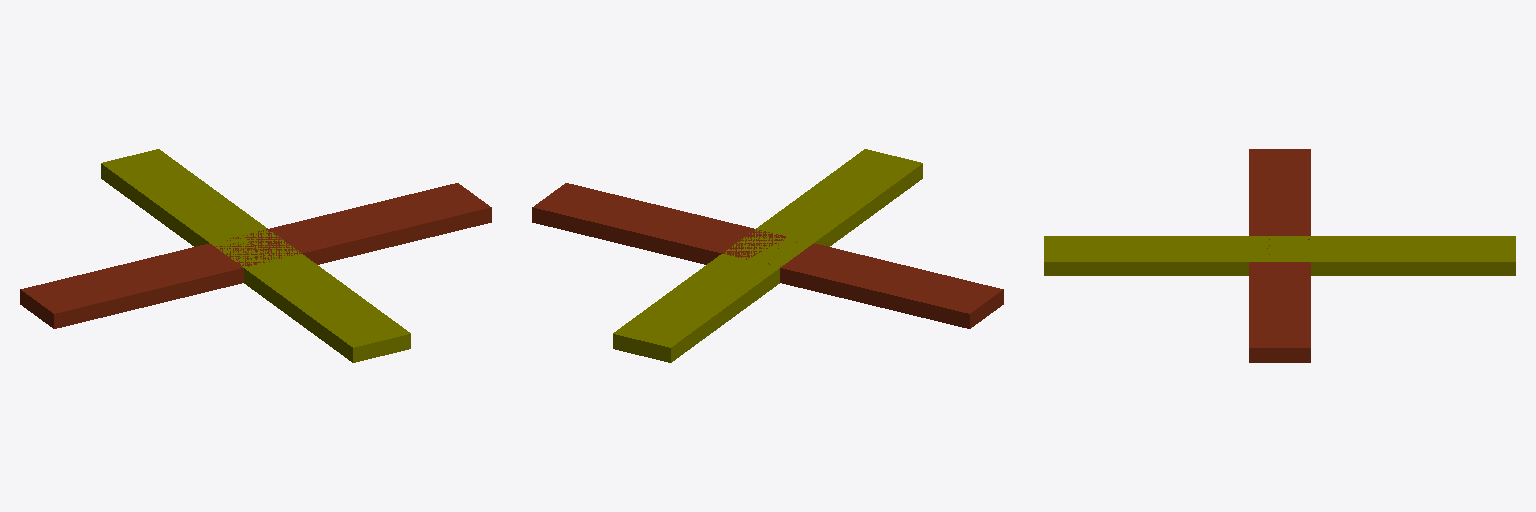
URDF robot description (kuka_iiwa):
<?xml version="1.0" ?>
<!--Autogenerated by "taco/models/sdf2urdf" converter from "../kuka_iiwa/kuka_iiwa.sdf"-->
<robot name="kuka_iiwa">
    <link name="base_link">
        <inertial>
            <origin xyz="0 0 0.14" rpy="0 -0 0" />
            <mass value="4" />
            <inertia ixx="0.4" iyy="0.4" izz="0.4" ixy="0" ixz="0" iyz="0" />
        </inertial>
        <visual>
            <origin xyz="0 0 0" rpy="0 -0 0" />
            <geometry>
                <mesh filename="../../../../examples/models/iiwa7/meshes/base.obj" scale="1 1 1" />
            </geometry>
        </visual>
        <!-- <collision>
            <origin xyz="0 0 0" rpy="0 -0 0" />
            <geometry>
                <mesh filename="../../../../examples/models/iiwa7/meshes/base.obj" scale="1 1 1" />
            </geometry>
        </collision> -->
    </link>
    <link name="link0">
        <inertial>
            <origin xyz="0 0 0.14" rpy="0 -0 0" />
            <mass value="4" />
            <inertia ixx="0.4" iyy="0.4" izz="0.4" ixy="0" ixz="0" iyz="0" />
        </inertial>
        <visual>
            <origin xyz="0 0 0" rpy="0 -0 0" />
            <geometry>
                <mesh filename="../../../../examples/models/iiwa7/meshes/link0.obj" scale="1 1 1" />
            </geometry>
        </visual>
        <!-- <collision>
            <origin xyz="0 0 0" rpy="0 -0 0" />
            <geometry>
                <mesh filename="../../../../examples/models/iiwa7/meshes/link0.obj" scale="1 1 1" />
            </geometry>
        </collision> -->
    </link>
    <link name="link1">
        <inertial>
            <origin xyz="0 0 0.14" rpy="0 -0 0" />
            <mass value="4" />
            <inertia ixx="0.4" iyy="0.4" izz="0.4" ixy="0" ixz="0" iyz="0" />
        </inertial>
        <visual>
            <origin xyz="0 0 0" rpy="0 -0 0" />
            <geometry>
                <mesh filename="../../../../examples/models/iiwa7/meshes/link1.obj" scale="1 1 1" />
            </geometry>
        </visual>
        <!-- <collision>
            <origin xyz="0 0 0" rpy="0 -0 0" />
            <geometry>
                <mesh filename="../../../../examples/models/iiwa7/meshes/link1.obj" scale="1 1 1" />
            </geometry>
        </collision> -->
    </link>
    <link name="link2">
        <inertial>
            <origin xyz="0 0 0.14" rpy="0 -0 0" />
            <mass value="4" />
            <inertia ixx="0.4" iyy="0.4" izz="0.4" ixy="0" ixz="0" iyz="0" />
        </inertial>
        <visual>
            <origin xyz="0 0 0" rpy="0 -0 0" />
            <geometry>
                <mesh filename="../../../../examples/models/iiwa7/meshes/link2.obj" scale="1 1 1" />
            </geometry>
        </visual>
        <!-- <collision>
            <origin xyz="0 0 0" rpy="0 -0 0" />
            <geometry>
                <mesh filename="../../../../examples/models/iiwa7/meshes/link2.obj" scale="1 1 1" />
            </geometry>
        </collision> -->
    </link>
    <link name="link3">
        <inertial>
            <origin xyz="0 0 0.14" rpy="0 0 0" />
            <mass value="4" />
            <inertia ixx="0.4" iyy="0.4" izz="0.4" ixy="0" ixz="0" iyz="0" />
        </inertial>
        <visual>
            <origin xyz="0 0 0" rpy="0 0 3.1415926535897" />
            <geometry>
                <mesh filename="../../../../examples/models/iiwa7/meshes/link3.obj" scale="1 1 1" />
            </geometry>
        </visual>
        <!-- <collision>
            <origin xyz="0 0 0" rpy="0 -0 0" />
            <geometry>
                <mesh filename="../../../../examples/models/iiwa7/meshes/link3.obj" scale="1 1 1" />
            </geometry>
        </collision> -->
    </link>
    <link name="link4">
        <inertial>
            <origin xyz="0 0 0.14" rpy="0 0 0" />
            <mass value="3" />
            <inertia ixx="0.3" iyy="0.3" izz="0.3" ixy="0" ixz="0" iyz="0" />
        </inertial>
        <visual>
            <origin xyz="0 0 0" rpy="0 0 0" />
            <geometry>
                <mesh filename="../../../../examples/models/iiwa7/meshes/link4.obj" scale="1 1 1" />
            </geometry>
        </visual>
        <!-- <collision>
            <origin xyz="0 0 0" rpy="0 -0 0" />
            <geometry>
                <mesh filename="../../../../examples/models/iiwa7/meshes/link4.obj" scale="1 1 1" />
            </geometry>
        </collision> -->
    </link>
    <link name="link5">
        <inertial>
            <origin xyz="0 0 0.14" rpy="0 0 0" />
            <mass value="2" />
            <inertia ixx="0.2" iyy="0.2" izz="0.2" ixy="0" ixz="0" iyz="0" />
        </inertial>
        <visual>
            <origin xyz="0 -0.06 0" rpy="0 0 0" />
            <geometry>
                <mesh filename="../../../../examples/models/iiwa7/meshes/link5.obj" scale="1 1 1" />
            </geometry>
        </visual>
        <!-- <collision>
            <origin xyz="0 -0.06 0" rpy="0 -0 0" />
            <geometry>
                <mesh filename="../../../../examples/models/iiwa7/meshes/link5.obj" scale="1 1 1" />
            </geometry>
        </collision> -->
    </link>
    <link name="link6">
        <inertial>
            <origin xyz="0 0 0.03" rpy="0 0 0" />
            <mass value="1" />
            <inertia ixx="0.1" iyy="0.1" izz="0.1" ixy="0" ixz="0" iyz="0" />
        </inertial>
        <visual>
            <origin xyz="0 0 0" rpy="0 0 0" />
            <geometry>
                <mesh filename="../../../../examples/models/iiwa7/meshes/link6.obj" scale="1 1 1" />
            </geometry>
        </visual>

        <!-- Bottle cap -->
        <visual> 
            <origin xyz="0 0 0.37" rpy="0 0 0" />
            <geometry>
                <mesh filename="Cap_NoThreads.obj" scale="0.041 0.041 0.041" />
            </geometry>
        </visual>

        <!-- 2 Rectangular components to visualize spin of cap -->
        <visual>
            <origin xyz="0 0 0.045" rpy="0 0 0" />
            <geometry>
                <box size="0.15 0.02 0.005" />
            </geometry>
            <material name="material_ee">
                <color rgba="0.5 0.2 0.1 1.0" />
            </material>
        </visual>
        <visual>
            <origin xyz="0 0 0.045" rpy="0 0 0" />
            <geometry>
                <box size="0.02 0.15 0.005" />
            </geometry>
            <material name="material_ee">
                <color rgba="0.5 0.5 0.0 1.0" />
            </material>
        </visual>
        
        <!-- Collision with cap -->
        <collision>
            <origin xyz="0 0 0.37" rpy="0 0 0" />
            <geometry>
                <mesh filename="Cap_NoThreads.obj" scale="0.041 0.041 0.041" />
            </geometry>
        </collision>

<!--         <collision>
            <origin xyz="0 0 0" rpy="0 0 0" />
            <geometry>
                <mesh filename="../../../../examples/models/iiwa7/meshes/link6.obj" scale="1 1 1" />
            </geometry>
        </collision> -->

<!-- REMOVE        -->
        <!-- <visual>
            <origin xyz="0 0 0.0" rpy="0 0 0" />
            <geometry>
                <cylinder radius="0.08" length="0.05"/>
            </geometry>
            <material name="material_ee">
                <color rgba="0.1 0.1 0.5 1.0" />
             </material>
         </visual> -->
 <!-- 
        <collision>
            <origin xyz="0 0 0.0" rpy="0 0 0" />
            <geometry>
                <cylinder radius="0.08" length="0.05"/>
            </geometry>
        </collision> -->
<!-- END REMOVE -->

    </link>


    <joint name="j0" type="revolute">
        <parent link="base_link" />
        <child link="link0" />
        <origin xyz="0.000000 0.000000 0.155767" rpy="0.000000 0.000000 0.000000" />
        <axis xyz="0 0 1" />
        <calibration falling="90.0" />
        <limit lower="-2.967" upper="2.967" effort="176" velocity="1.7104" />
    </joint>
    <joint name="j1" type="revolute">
        <parent link="link0" />
        <child link="link1" />
        <origin xyz="0.000000 0.000000 0.182500" rpy="0.000000 0.000000 0.000000" />
        <axis xyz="0 1 0" />
        <calibration falling="-30.0" />
        <limit lower="-2.0944" upper="2.0944" effort="176" velocity="1.7104" />
    </joint>
    <joint name="j2" type="revolute">
        <parent link="link1" />
        <child link="link2" />
        <origin xyz="0.000000 0.000000 0.185000" rpy="0.000000 0.000000 0.000000" />
        <axis xyz="0 0 1" />
        <limit lower="-2.967" upper="2.967" effort="110" velocity="1.7453" />
    </joint>
    <joint name="j3" type="revolute">
        <parent link="link2" />
        <child link="link3" />
        <origin xyz="0.000000 0.000000 0.217000" rpy="0.000000 0.000000 3.1415926535897" />
        <axis xyz="0 1 0" />
        <calibration falling="60.0" />
        <limit lower="-2.0944" upper="2.0944" effort="110" velocity="2.2689" />
    </joint>
    <joint name="j4" type="revolute">
        <parent link="link3" />
        <child link="link4" />
        <origin xyz="0.000000 0.000000 0.186000" rpy="0.000000 0.000000 -3.1415926535897" />
        <axis xyz="0 0 1" />
        <limit lower="-2.967" upper="2.967" effort="110" velocity="2.4434" />
    </joint>
    <joint name="j5" type="revolute">
        <parent link="link4" />
        <child link="link5" />
        <origin xyz="0.000000 0.000000 0.217003" rpy="0.000000 0.000000 0.000000" />
        <axis xyz="0 1 0" />
        <calibration falling="-90.0" />
        <limit lower="-2.0944" upper="2.0944" effort="40" velocity="3.1416" />
    </joint>
    <joint name="j6" type="revolute">
        <parent link="link5" />
        <child link="link6" />
        <origin xyz="0.000000 0.000000 0.081000" rpy="0.000000 0.000000 0.000000" />
        <axis xyz="0 0 1" />
        <limit lower="-3.0543" upper="3.0543" effort="40" velocity="3.1416" />
    </joint>
</robot>

--- Render facts (derived) ---
3 views of the same robot in one strip: view 1: azimuth 30°, elevation 25°; view 2: azimuth 150°, elevation 25°; view 3: azimuth 270°, elevation 25° (orthographic).
Robot: kuka_iiwa — 8 links, 7 joints (7 revolute); root link base_link; default pose: every joint at zero.
Visible links, largest first — view 1: link6; view 2: link6; view 3: link6.
Boxes of the visible links, x1,y1,x2,y2 form: link6: (20, 149, 491, 362); link6: (532, 149, 1003, 362); link6: (1044, 149, 1515, 362).
Bounding box of the posed robot: 0.15 × 0.15 × 0.005 m (x, y, z).
Meshes: 1 distinct files referenced, 0 mesh visuals loaded (none loaded); not drawn: 1 (reference not matched to a file when rendering), 8 (reference in a form the renderer does not follow; not among the files counted above).